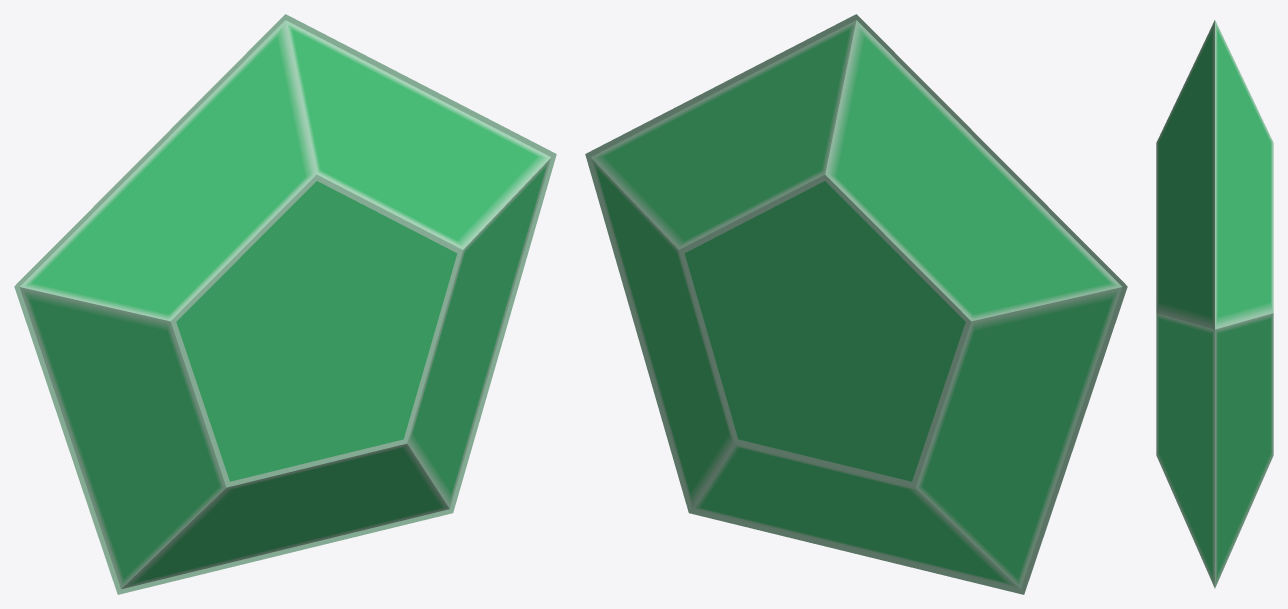
File: Diament5.fbx
The picture shows the model from 3 angles, left to right: view 1: azimuth 30°, elevation 25°; view 2: azimuth 150°, elevation 25°; view 3: azimuth 270°, elevation 25°; orthographic projection. The views are drawn at different scales.
Parts seen in each view (by area): view 1: Cylinder; view 2: Cylinder; view 3: Cylinder.
Part boxes in pixels (x1,y1,x2,y2): Cylinder: (14,14,556,594); Cylinder: (585,14,1127,594); Cylinder: (1156,20,1273,588).
Bounding box in the file's own units: 250 × 238 × 50.
